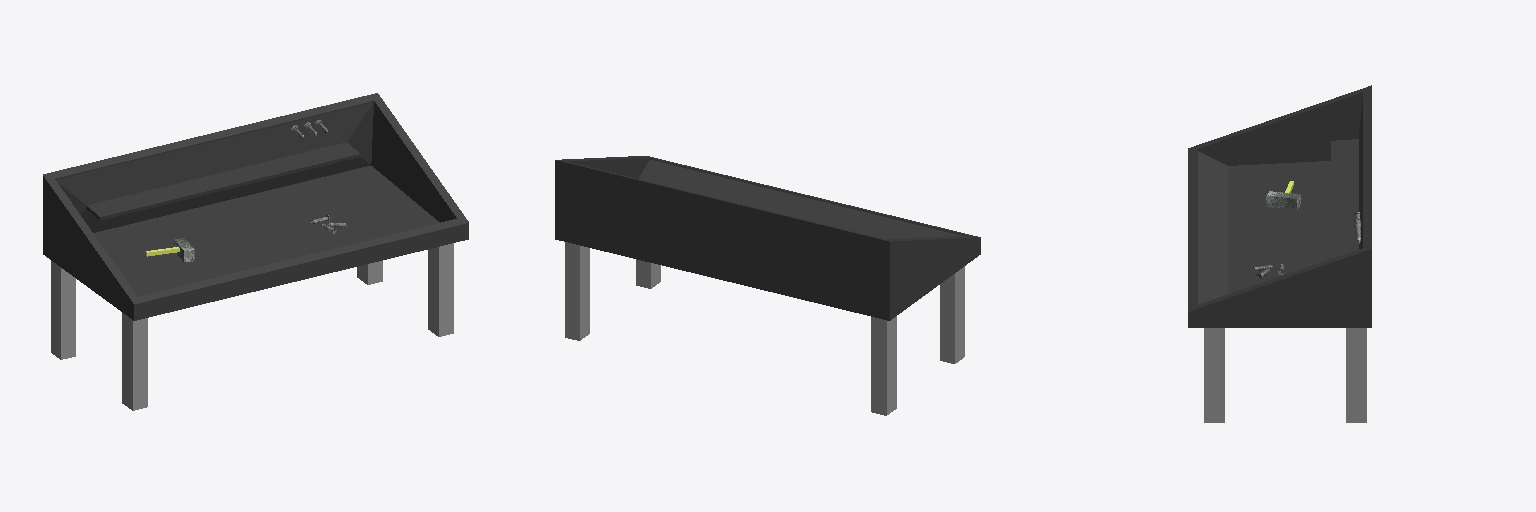
3 renders of one model, left to right at view 1: azimuth 30°, elevation 25°; view 2: azimuth 150°, elevation 25°; view 3: azimuth 270°, elevation 25°, orthographic.
Parts seen in each view (by area): view 1: Cube, Cube.004, Cube.001, Cube.003; view 2: Cube, Cube.003, Cube.002, Cube.004, Cube.001; view 3: Cube, Cube.001, Cube.002, Cube.005.
Boxes of the visible parts, x1,y1,x2,y2 form: Cube: [43, 93, 468, 320]; Cube.004: [122, 313, 147, 410]; Cube.001: [428, 243, 453, 336]; Cube.003: [51, 261, 75, 359]; Cube: [555, 156, 980, 320]; Cube.003: [871, 316, 896, 415]; Cube.002: [565, 242, 589, 340]; Cube.004: [940, 266, 964, 363]; Cube.001: [636, 259, 660, 288]; Cube: [1188, 85, 1371, 327]; Cube.001: [1204, 328, 1224, 422]; Cube.002: [1346, 328, 1366, 422]; Cube.005: [1266, 191, 1300, 209].
Bounding box in the file's own units: 4.22 × 2.14 × 2.
26 materials, 2 textured.